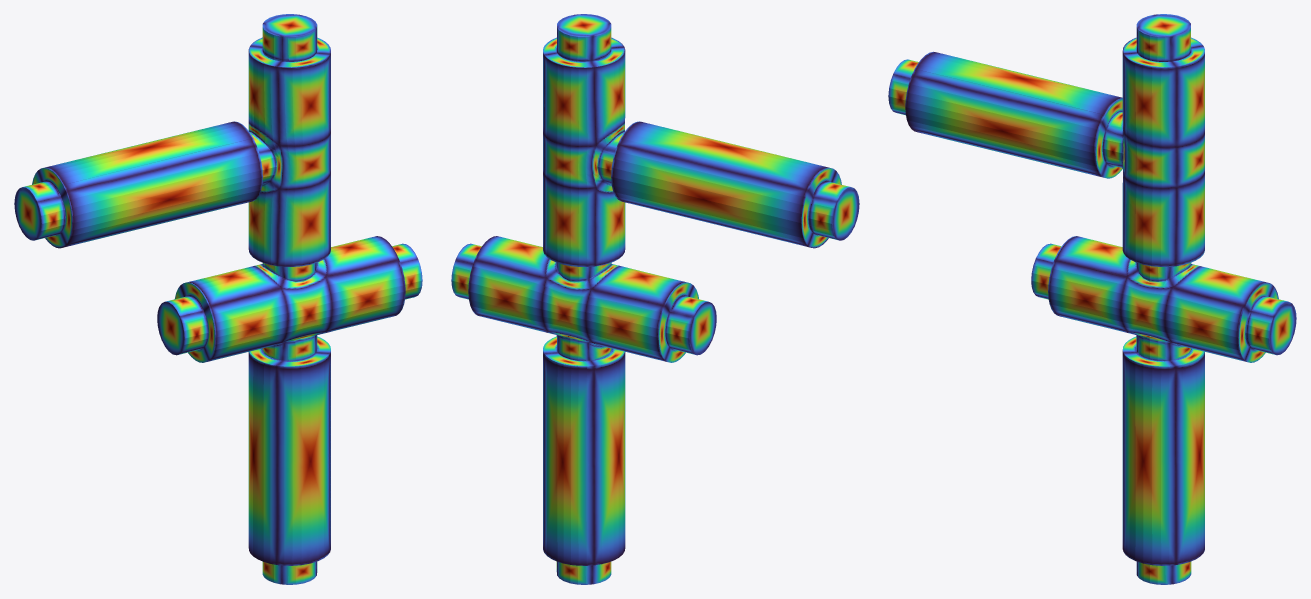
File: gen0.glb
3 renders of one model, left to right at view 1: azimuth 30°, elevation 25°; view 2: azimuth 150°, elevation 25°; view 3: azimuth 330°, elevation 25°, orthographic.
Parts seen in each view (by area): view 1: Node; view 2: Node; view 3: Node.
Part boxes in pixels (x1,y1,x2,y2): Node: (14, 14, 422, 584); Node: (451, 14, 859, 584); Node: (888, 14, 1296, 584).
Bounding box in the file's own units: 320 × 440 × 60.
Materials: 1 (1 with a texture image).
